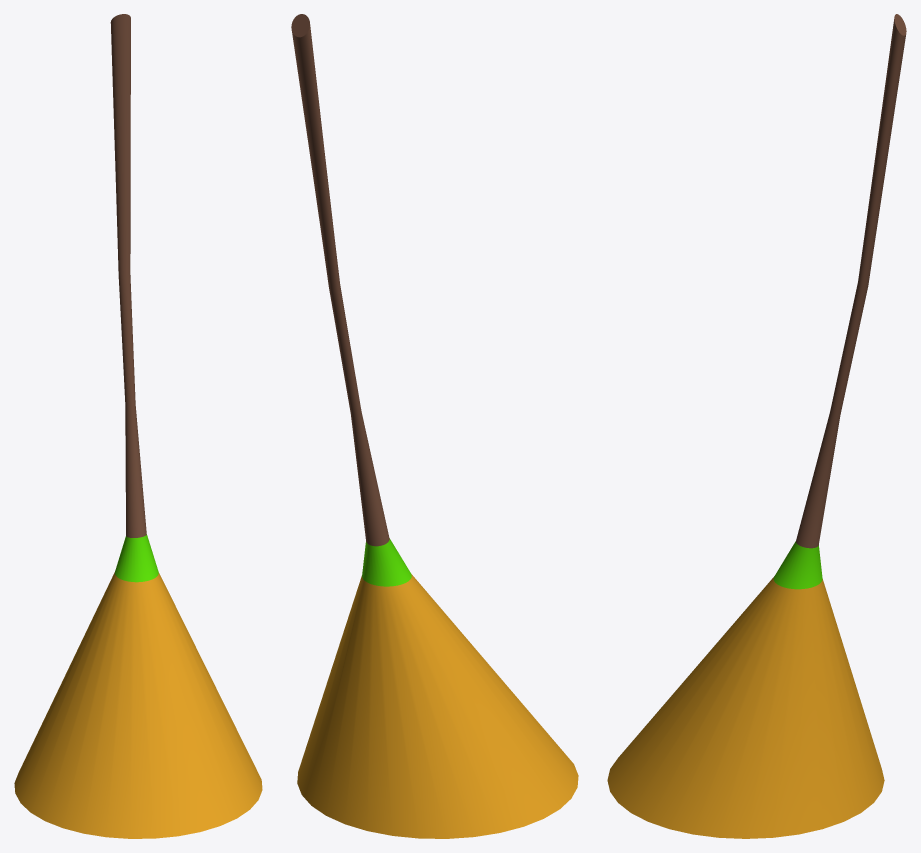
File: broom2 1.fbx
3 renders of one model, left to right at view 1: azimuth 30°, elevation 25°; view 2: azimuth 150°, elevation 25°; view 3: azimuth 270°, elevation 25°, orthographic. The views are drawn at different scales.
Parts seen in each view (by area): view 1: Cylinder; view 2: Cylinder; view 3: Cylinder.
Part boxes in pixels (<box>): Cylinder: <box>14,14,262,838</box>; Cylinder: <box>291,14,578,838</box>; Cylinder: <box>607,14,906,838</box>.
Size of the model in its own units: 200 by 631 by 216.
